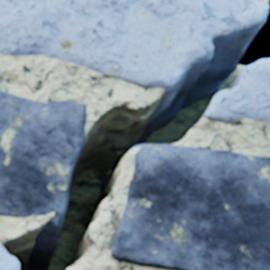brick: (111, 145, 269, 269), (0, 91, 84, 217)
broken_brick: (0, 0, 267, 91), (204, 59, 269, 124), (0, 246, 19, 269)
crack: (2, 0, 269, 269)
